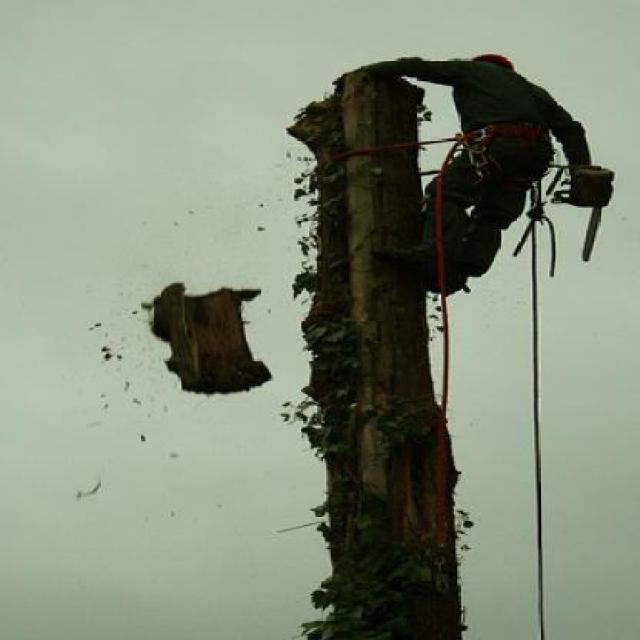Chainsaw: (552, 162, 614, 260)
